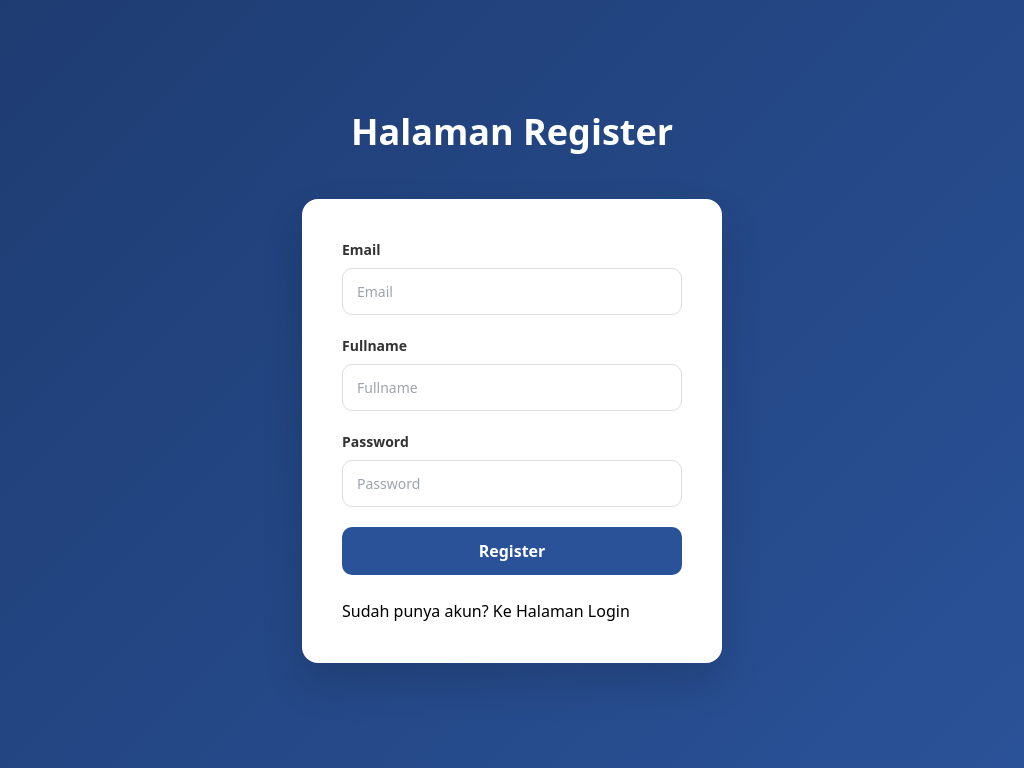
Register Page › should handle network error
Type "test@mail.com" into the field with placeholder "Email". click: x=512, y=292
box: [342,268,682,315]
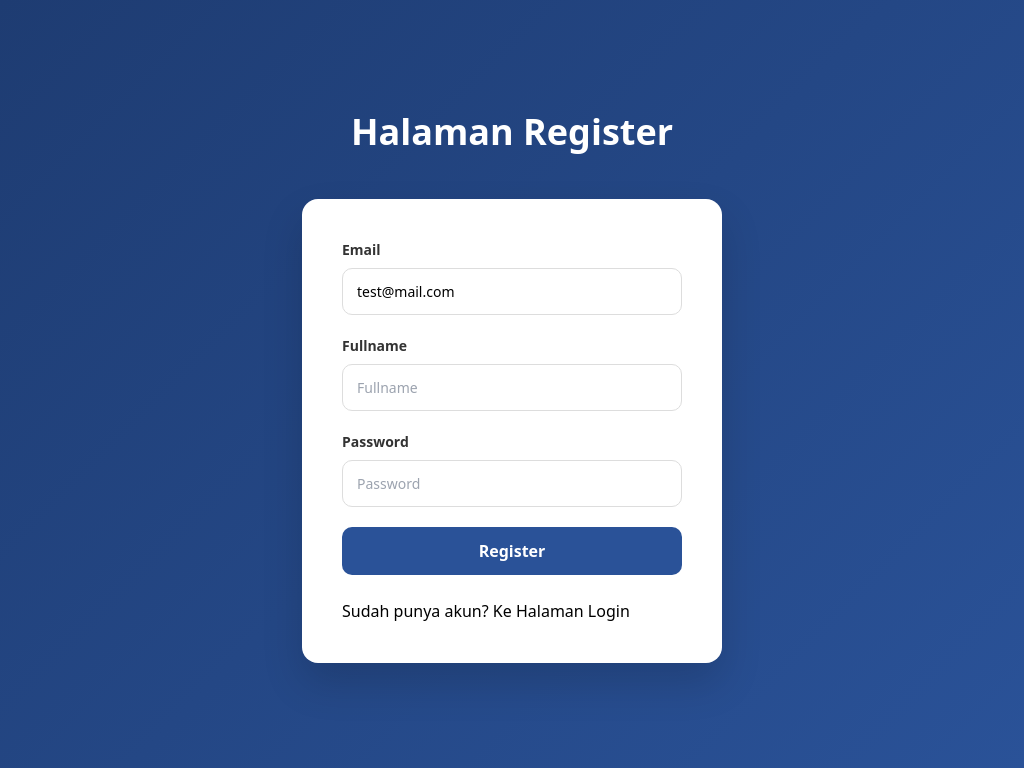
Type "Test User" into the field with placeholder "Fullname". click: x=512, y=388
box: [342,364,682,411]
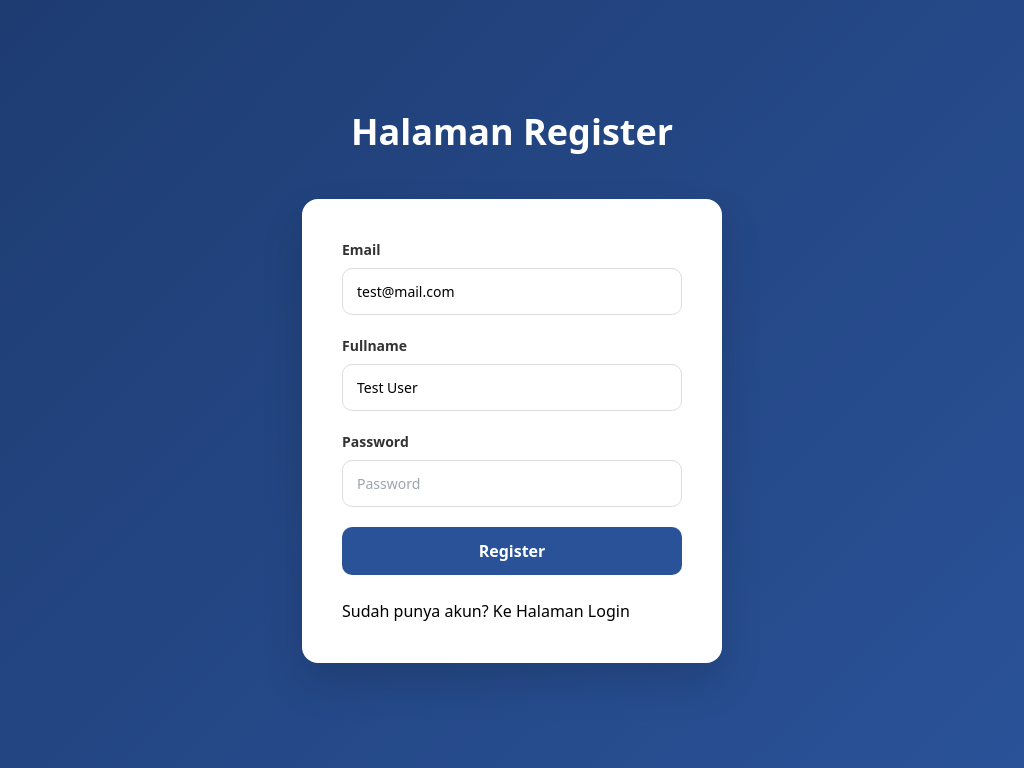
Type "123456" into the password field with placeholder "Password". click: x=512, y=484
box: [342,460,682,507]
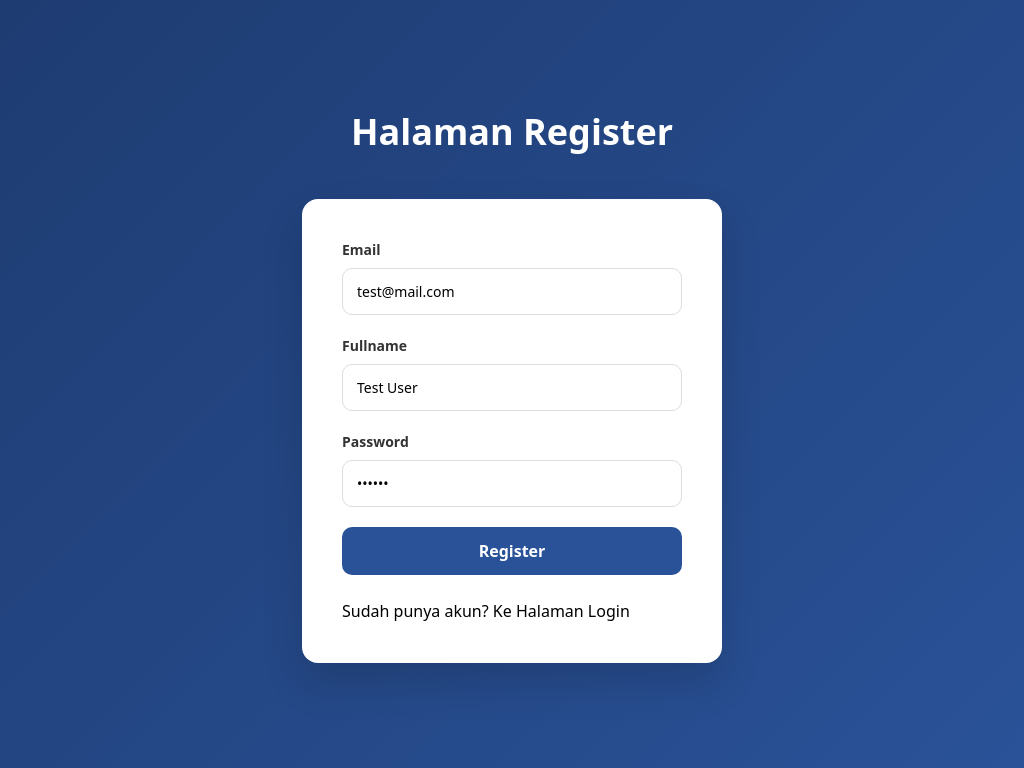
Submit the form from the button, box [342,527,682,575]
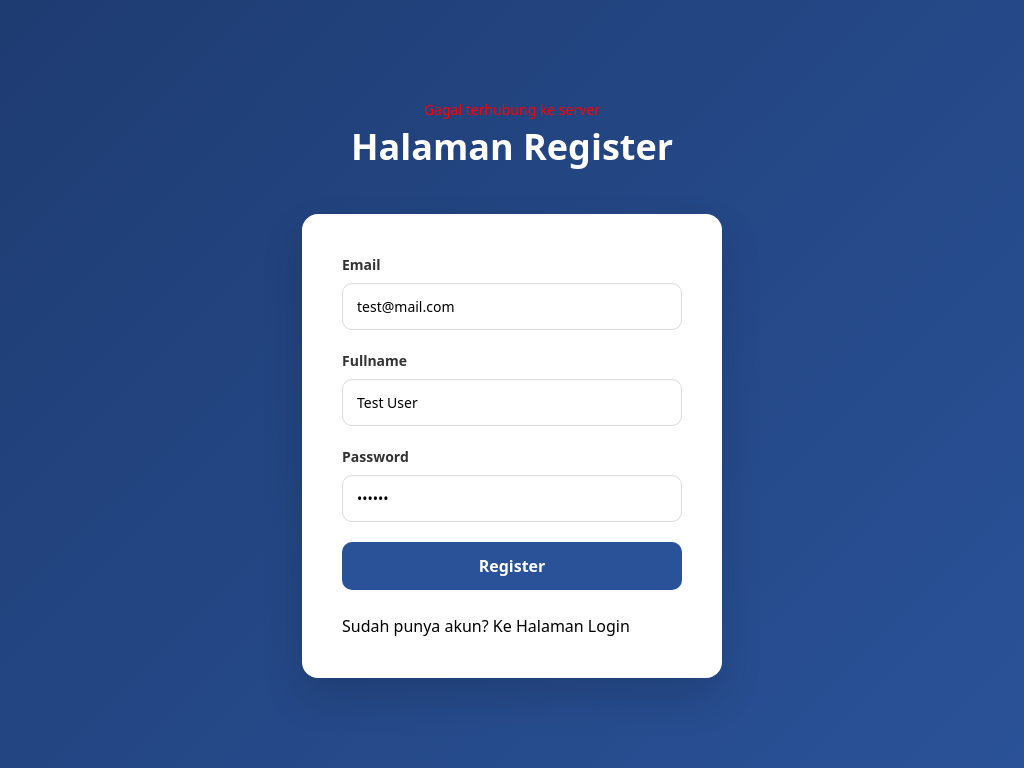
Check: the text "Gagal terhubung ke server" is shown, box [424,98,600,120]
